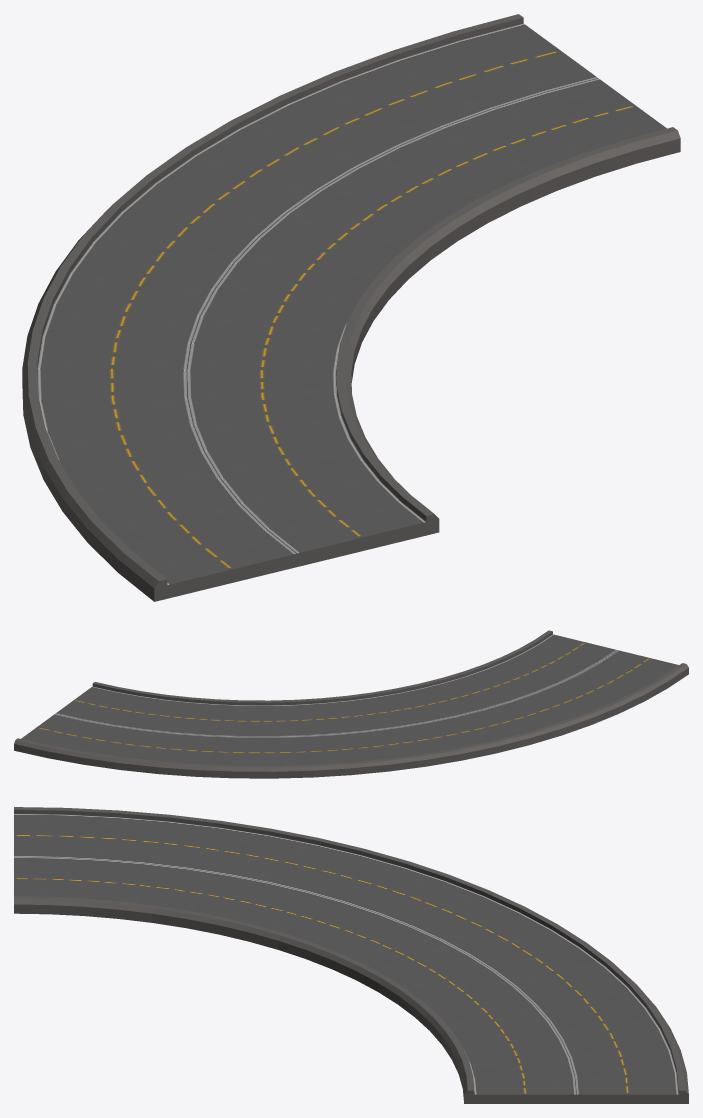
Rendered from SM_Floor_Road_24.fbx.
3 views of the same model, one above another, from view 1: azimuth 30°, elevation 25°; view 2: azimuth 150°, elevation 25°; view 3: azimuth 270°, elevation 25° (orthographic). The views are drawn at different scales.
Visible parts, largest first — view 1: SM_Floor_Road_24; view 2: SM_Floor_Road_24; view 3: SM_Floor_Road_24.
Part boxes in pixels (x1,y1,x2,y2): SM_Floor_Road_24: [22, 14, 680, 601]; SM_Floor_Road_24: [14, 630, 688, 778]; SM_Floor_Road_24: [14, 807, 688, 1103].
Size of the model in its own units: 33 by 0.7155 by 33.
